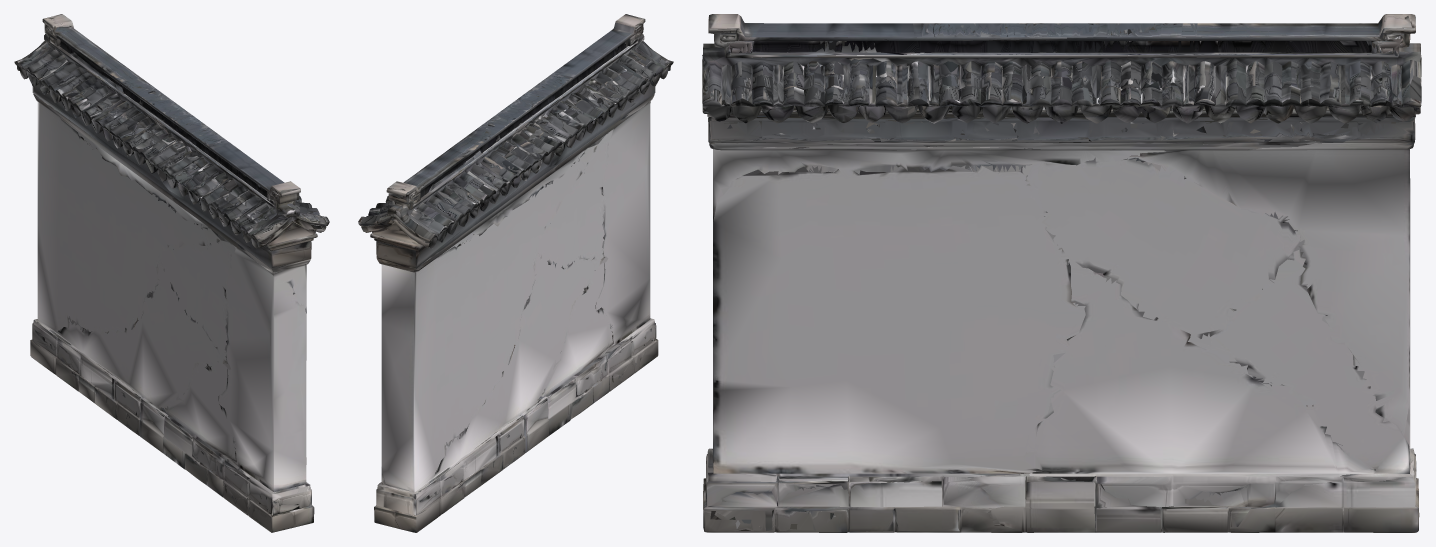
File: wall-compressed.glb
The picture shows the model from 3 angles, left to right: view 1: azimuth 30°, elevation 25°; view 2: azimuth 150°, elevation 25°; view 3: azimuth 270°, elevation 25°; orthographic projection. The views are drawn at different scales.
Visible parts, largest first — view 1: node_0; view 2: node_0; view 3: node_0.
Part boxes in pixels (x1=…): node_0: x1=14, y1=14, x2=329, y2=532; node_0: x1=358, y1=14, x2=673, y2=532; node_0: x1=702, y1=14, x2=1421, y2=532.
Size of the model in its own units: 0.6422 by 2.8 by 3.67.
Materials: 1 (1 with a texture image).
